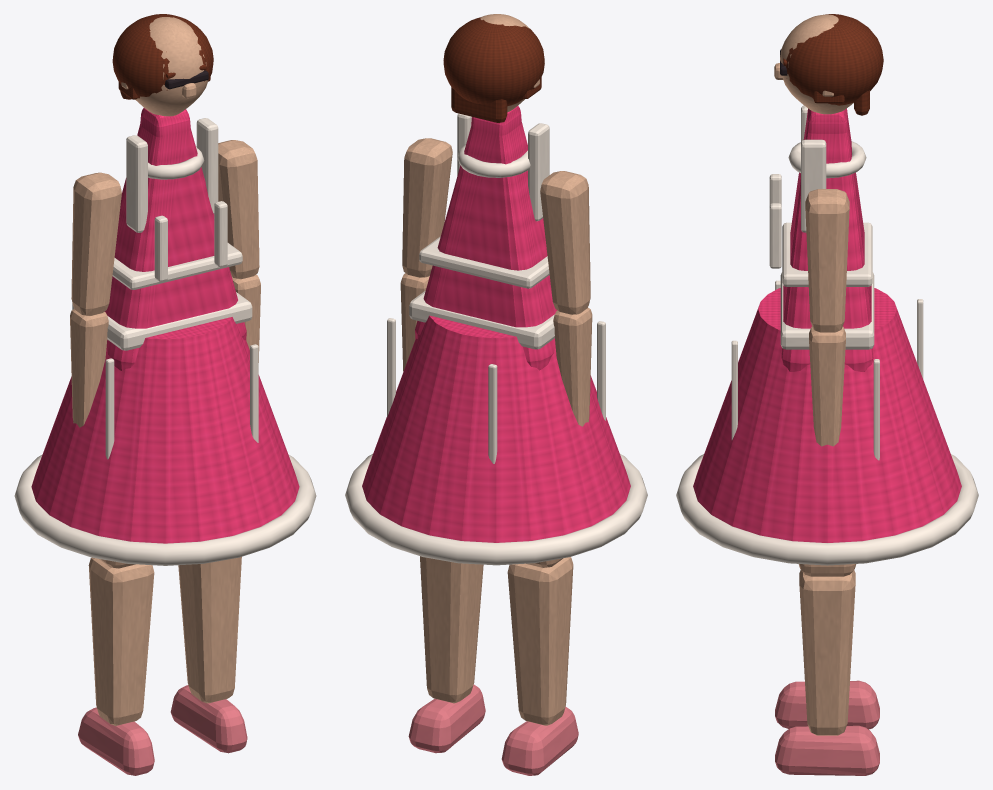
Rendered from ped_dress.glb.
The picture shows the model from 3 angles, left to right: view 1: azimuth 30°, elevation 25°; view 2: azimuth 150°, elevation 25°; view 3: azimuth 270°, elevation 25°; orthographic projection.
Visible parts, largest first — view 1: skirt, torso, lower_leg_R, skirt_hem, lower_leg_L, upper_arm_R, upper_arm_L, hair, head, lower_arm_R, shoe_R, shoe_L (+10 smaller); view 2: skirt, torso, lower_leg_R, skirt_hem, lower_leg_L, hair, upper_arm_R, upper_arm_L, lower_arm_R, shoe_R, shoe_L, bodice_band (+8 smaller); view 3: skirt, skirt_hem, torso, lower_leg_L, hair, upper_arm_L, shoe_L, lower_arm_L, shoe_R, head, bodice_band, waistband (+6 smaller).
Boxes of the visible parts, x1=… form: skirt: x1=31, y1=317, x2=299, y2=543; torso: x1=104, y1=108, x2=246, y2=371; lower_leg_R: x1=88, y1=557, x2=154, y2=725; skirt_hem: x1=14, y1=455, x2=316, y2=565; lower_leg_L: x1=178, y1=557, x2=241, y2=703; upper_arm_R: x1=71, y1=172, x2=121, y2=315; upper_arm_L: x1=218, y1=140, x2=259, y2=279; hair: x1=112, y1=14, x2=213, y2=98; head: x1=135, y1=17, x2=208, y2=116; lower_arm_R: x1=70, y1=309, x2=108, y2=427; shoe_R: x1=78, y1=707, x2=154, y2=775; shoe_L: x1=170, y1=685, x2=247, y2=753; skirt: x1=362, y1=315, x2=630, y2=542; torso: x1=415, y1=106, x2=557, y2=370; lower_leg_R: x1=507, y1=557, x2=573, y2=725; skirt_hem: x1=345, y1=454, x2=647, y2=565; lower_leg_L: x1=420, y1=556, x2=483, y2=703; hair: x1=443, y1=17, x2=544, y2=106; upper_arm_R: x1=540, y1=171, x2=590, y2=314; upper_arm_L: x1=402, y1=138, x2=452, y2=277; lower_arm_R: x1=553, y1=307, x2=592, y2=426; shoe_R: x1=501, y1=707, x2=578, y2=775; shoe_L: x1=408, y1=684, x2=485, y2=753; bodice_band: x1=419, y1=236, x2=549, y2=288; skirt: x1=693, y1=288, x2=961, y2=542; skirt_hem: x1=676, y1=454, x2=978, y2=565; torso: x1=781, y1=108, x2=873, y2=371; lower_leg_L: x1=799, y1=570, x2=855, y2=735; hair: x1=785, y1=14, x2=883, y2=105; upper_arm_L: x1=805, y1=189, x2=849, y2=332; shoe_L: x1=775, y1=725, x2=879, y2=775; lower_arm_L: x1=809, y1=326, x2=845, y2=446; shoe_R: x1=775, y1=680, x2=879, y2=729; head: x1=780, y1=14, x2=853, y2=114; bodice_band: x1=782, y1=222, x2=872, y2=286; waistband: x1=780, y1=272, x2=874, y2=349.
Size of the model in its own units: 0.6559 by 1.75 by 0.6559.
Materials: 6 (6 with a texture image).
